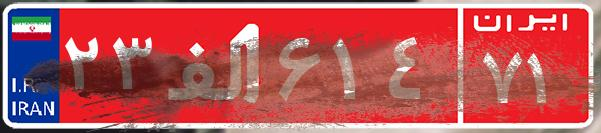1: (330, 28, 385, 110), (525, 38, 570, 115)
2: (57, 26, 110, 107)
3: (110, 28, 158, 105)
4: (385, 28, 445, 110)
6: (273, 28, 330, 110)
7: (475, 38, 525, 113)
الف: (158, 15, 273, 115)
